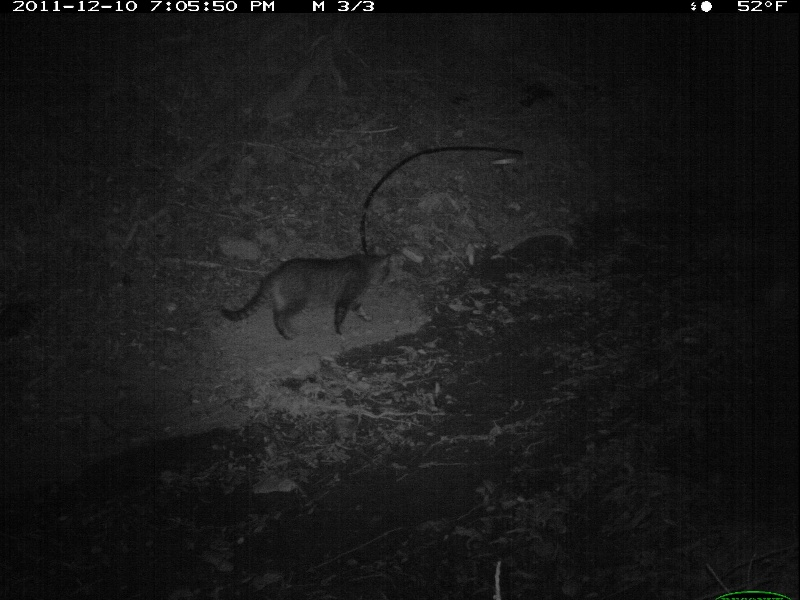cat: (218, 244, 395, 351)
